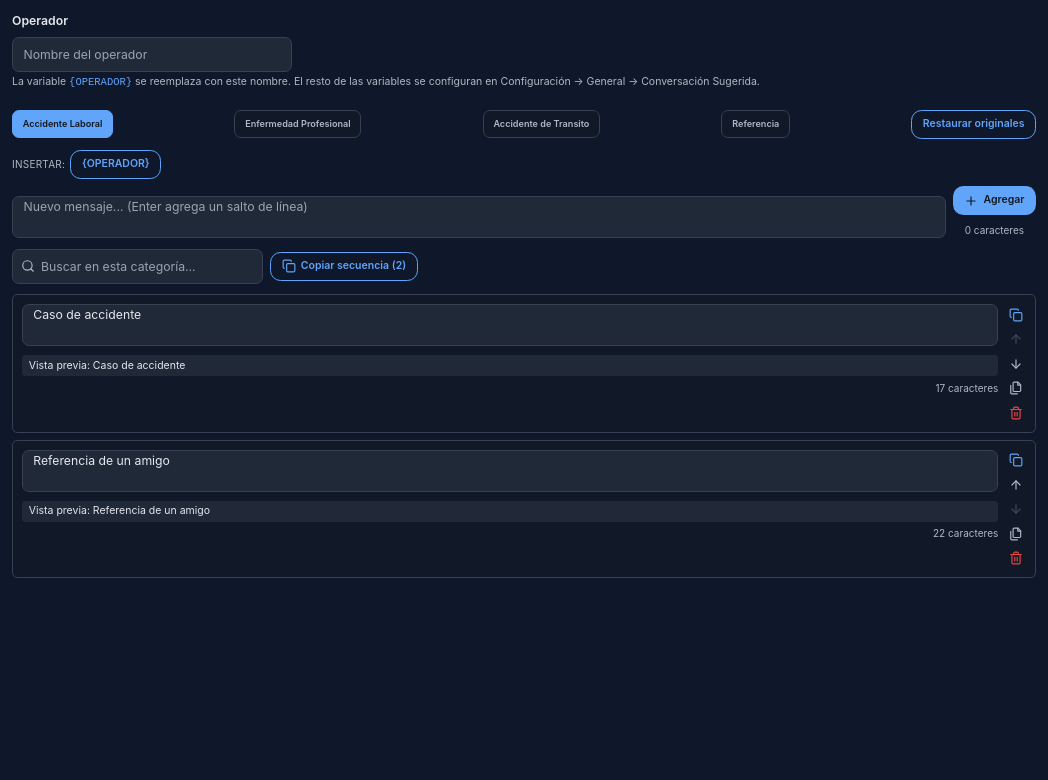
Test: ConversacionesSugeridasView (1.9.6) › la búsqueda filtra los mensajes mostrados sin tocar el storage
In the field with placeholder "Buscar en esta categoría...": (138, 266) top-left (12, 249), bottom-right (263, 284), type "referencia"
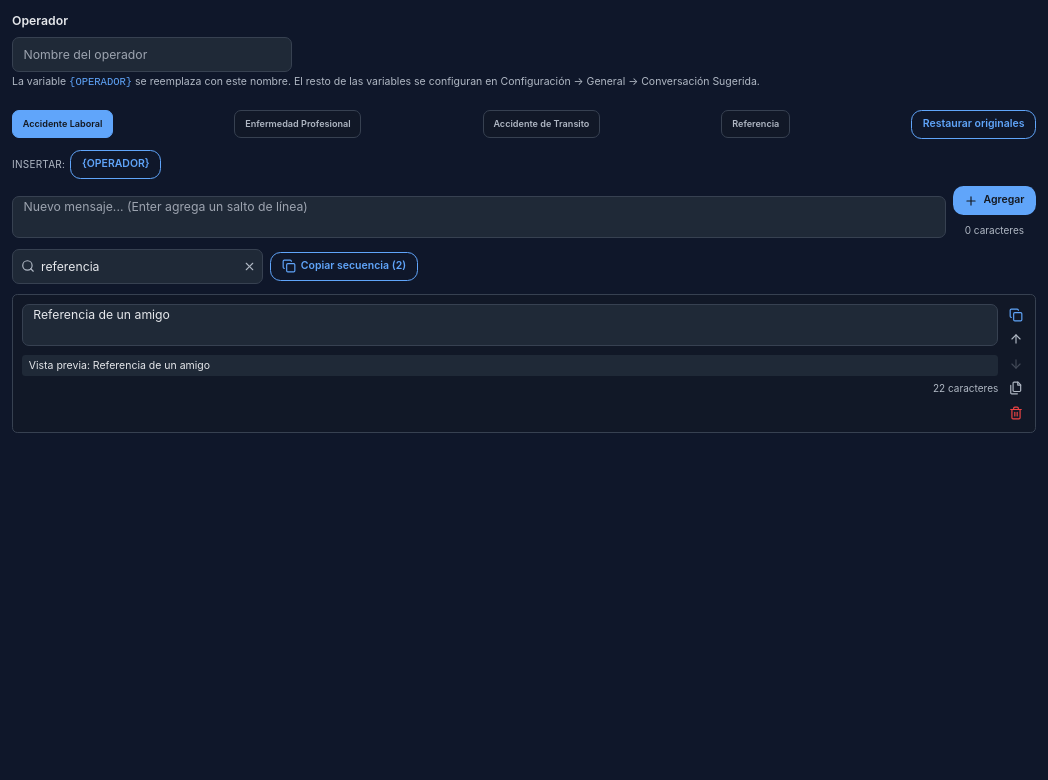
Expected: the text box showing "Referencia de un amigo" is shown, top-left (22, 304), bottom-right (998, 346)
Expected: the text showing "Caso de accidente" is gone
